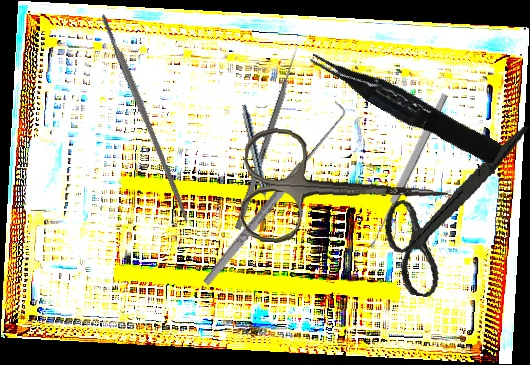Handpiece: (238, 103, 273, 213)
Hook Surgical: (195, 101, 352, 288)
Iris Scissors: (375, 107, 529, 309), (238, 125, 457, 255)
Pusher: (234, 40, 303, 231)
Scalpel Handle: (99, 11, 192, 224)
Surgical Spoon: (366, 92, 450, 250)
Tissue Forceps: (306, 37, 504, 173)
